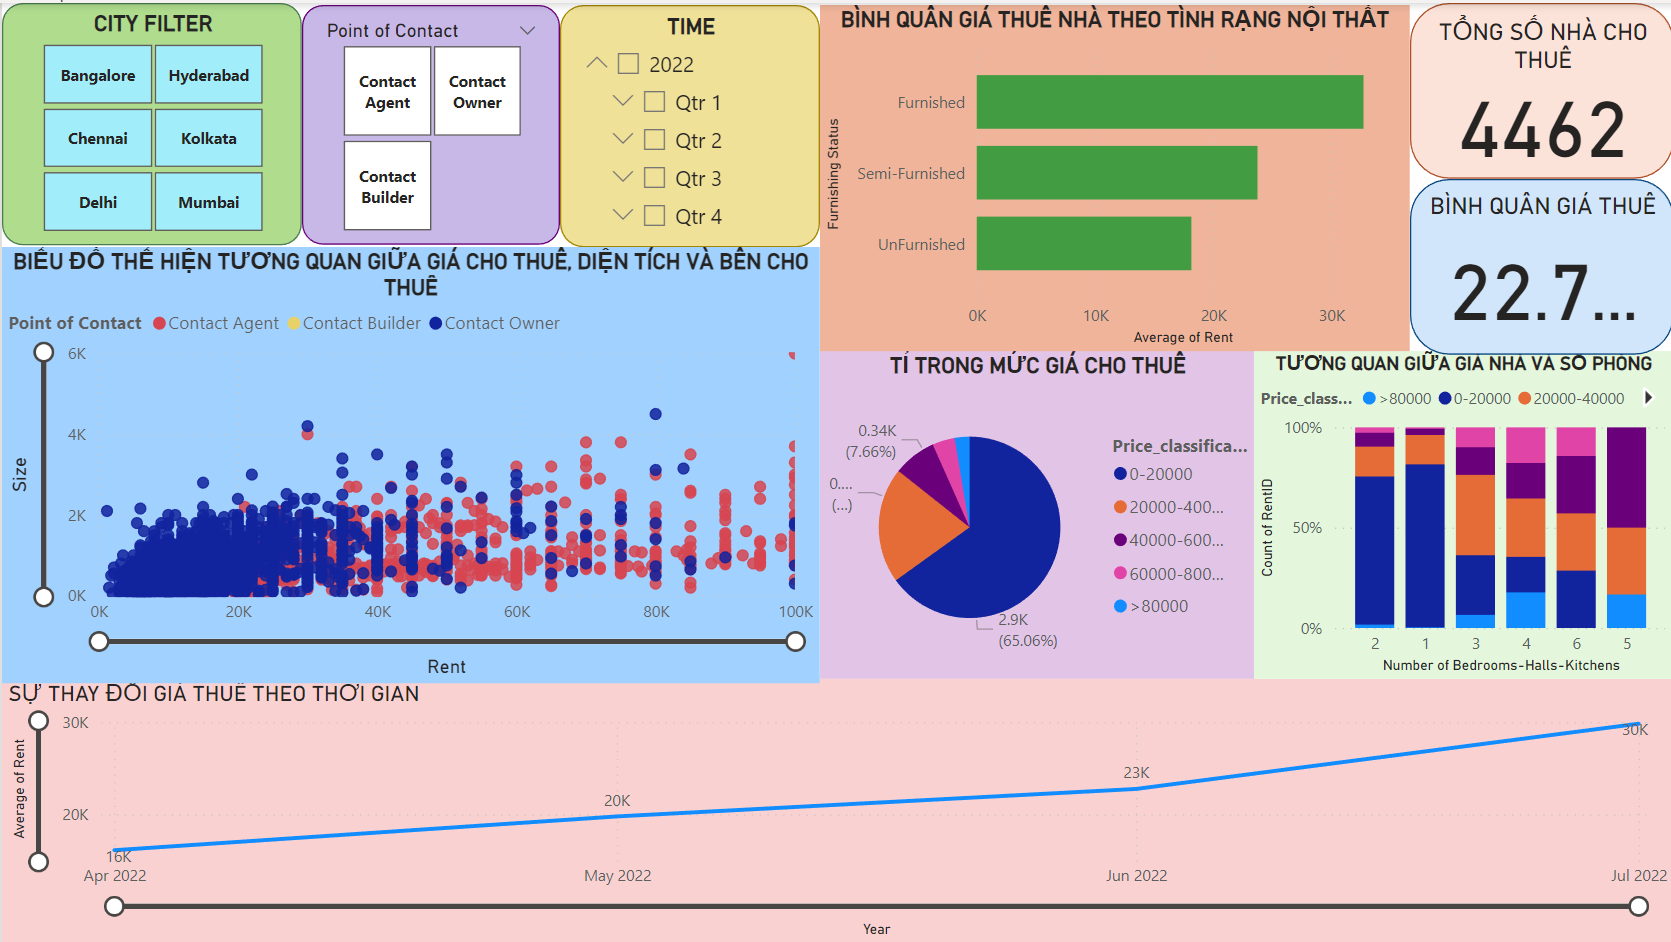

The page's visual inventory and layout, read from the dashboard file:
{"tool":"powerbi","page":{"name":"Page 2","canvas":[1280,720],"ordinal":1},"visuals":[{"type":"card","title":"TỔNG SỐ NHÀ CHO THUÊ","fields":{"Values":["CountNonNull(Preprocessed_House_Rent.RentID)"]},"box":[1077.9,0,202.1,134.7],"z":0},{"type":"slicer","title":"CITY FILTER","fields":{"Values":["Preprocessed_House_Rent.City"]},"box":[0,0,229.7,185.3],"z":1000},{"type":"pieChart","title":"TỈ TRONG MỨC GIÁ CHO THUÊ","fields":{"Category":["Preprocessed_House_Rent.Price_classification"],"Y":["CountNonNull(Preprocessed_House_Rent.RentID)"]},"box":[626.2,266.4,333.8,251.1],"z":2000},{"type":"lineChart","title":"SỰ THAY ĐỔI GIÁ THUÊ THEO THỜI GIAN","fields":{"Category":["Preprocessed_House_Rent.Posted On.Variation.Date Hierarchy.Year","Preprocessed_House_Rent.Posted On.Variation.Date Hierarchy.Quarter","Preprocessed_House_Rent.Posted On.Variation.Date Hierarchy.Month"],"Y":["Avg(Preprocessed_House_Rent.Rent)"]},"box":[0,517.5,1280,202.1],"z":3000},{"type":"slicer","fields":{"Values":["Preprocessed_House_Rent.Point of Contact"]},"box":[229.7,1.5,197.5,183.7],"z":4000},{"type":"slicer","title":"TIME","fields":{"Values":["Preprocessed_House_Rent.Posted On.Variation.Date Hierarchy.Year","Preprocessed_House_Rent.Posted On.Variation.Date Hierarchy.Quarter","Preprocessed_House_Rent.Posted On.Variation.Date Hierarchy.Month","Preprocessed_House_Rent.Posted On.Variation.Date Hierarchy.Day"]},"box":[427.2,1.5,199,185.3],"z":5000},{"type":"scatterChart","title":"BIỂU ĐỒ THỂ HIỆN TƯƠNG QUAN GIỮA GIÁ CHO THUÊ, DIỆN TÍCH VÀ BÊN CHO THUÊ","fields":{"Series":["Preprocessed_House_Rent.Point of Contact"],"X":["Preprocessed_House_Rent.Rent"],"Y":["Preprocessed_House_Rent.Size"]},"box":[0,186.8,626.2,330.7],"z":6000},{"type":"hundredPercentStackedColumnChart","title":"TƯƠNG QUAN GIỮA GIÁ NHÀ VÀ SỐ PHÒNG","fields":{"Category":["Preprocessed_House_Rent.Number of Bedrooms-Halls-Kitchens"],"Y":["CountNonNull(Preprocessed_House_Rent.RentID)"],"Series":["Preprocessed_House_Rent.Price_classification"]},"box":[958.5,266.4,321.5,251.1],"z":7000},{"type":"clusteredBarChart","title":"BÌNH QUÂN GIÁ THUÊ NHÀ THEO TÌNH RẠNG NỘI THẤT","fields":{"Y":["Avg(Preprocessed_House_Rent.Rent)"],"Category":["Preprocessed_House_Rent.Furnishing Status"]},"box":[626.2,1.5,451.7,264.9],"z":8000},{"type":"card","title":"BÌNH QUÂN GIÁ THUÊ","fields":{"Values":["Avg(Preprocessed_House_Rent.Rent)"]},"box":[1077.9,134.7,202.1,134.7],"z":9000}]}

Visuals, with their boxes in screenshot pixels (x1, y1, x2, y2), scaled from the page's 1280x720 canvas onto the 1671x942 screenshot:
"TỔNG SỐ NHÀ CHO THUÊ" card: bbox=(1407, 0, 1670, 176)
"CITY FILTER" slicer: bbox=(0, 0, 300, 242)
"TỈ TRONG MỨC GIÁ CHO THUÊ" pieChart: bbox=(817, 349, 1253, 677)
"SỰ THAY ĐỔI GIÁ THUÊ THEO THỜI GIAN" lineChart: bbox=(0, 677, 1670, 941)
slicer - Preprocessed_House_Rent.Point of Contact: bbox=(300, 2, 558, 242)
"TIME" slicer: bbox=(558, 2, 817, 244)
"BIỂU ĐỒ THỂ HIỆN TƯƠNG QUAN GIỮA GIÁ CHO THUÊ, DIỆN TÍCH VÀ BÊN CHO THUÊ" scatterChart: bbox=(0, 244, 817, 677)
"TƯƠNG QUAN GIỮA GIÁ NHÀ VÀ SỐ PHÒNG" hundredPercentStackedColumnChart: bbox=(1251, 349, 1670, 677)
"BÌNH QUÂN GIÁ THUÊ NHÀ THEO TÌNH RẠNG NỘI THẤT" clusteredBarChart: bbox=(817, 2, 1407, 349)
"BÌNH QUÂN GIÁ THUÊ" card: bbox=(1407, 176, 1670, 352)
